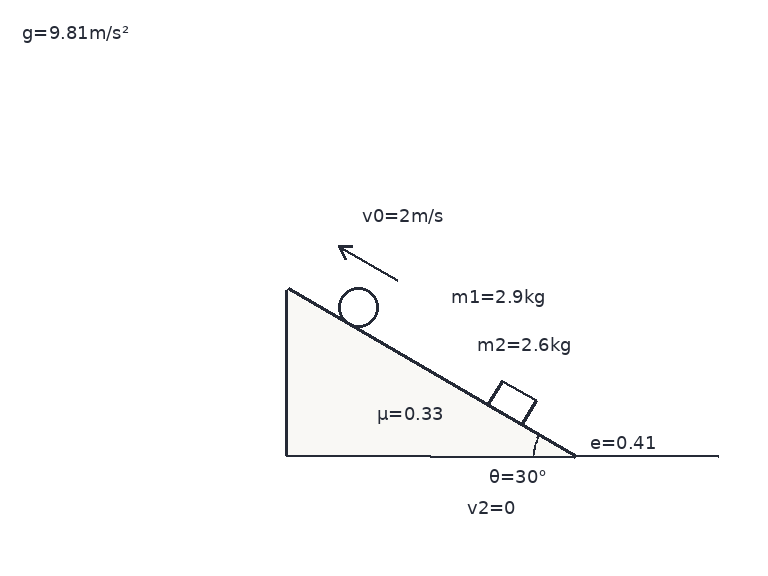ball: (336, 285, 380, 329)
block: (485, 378, 538, 427)
ramp: (284, 287, 576, 457)
